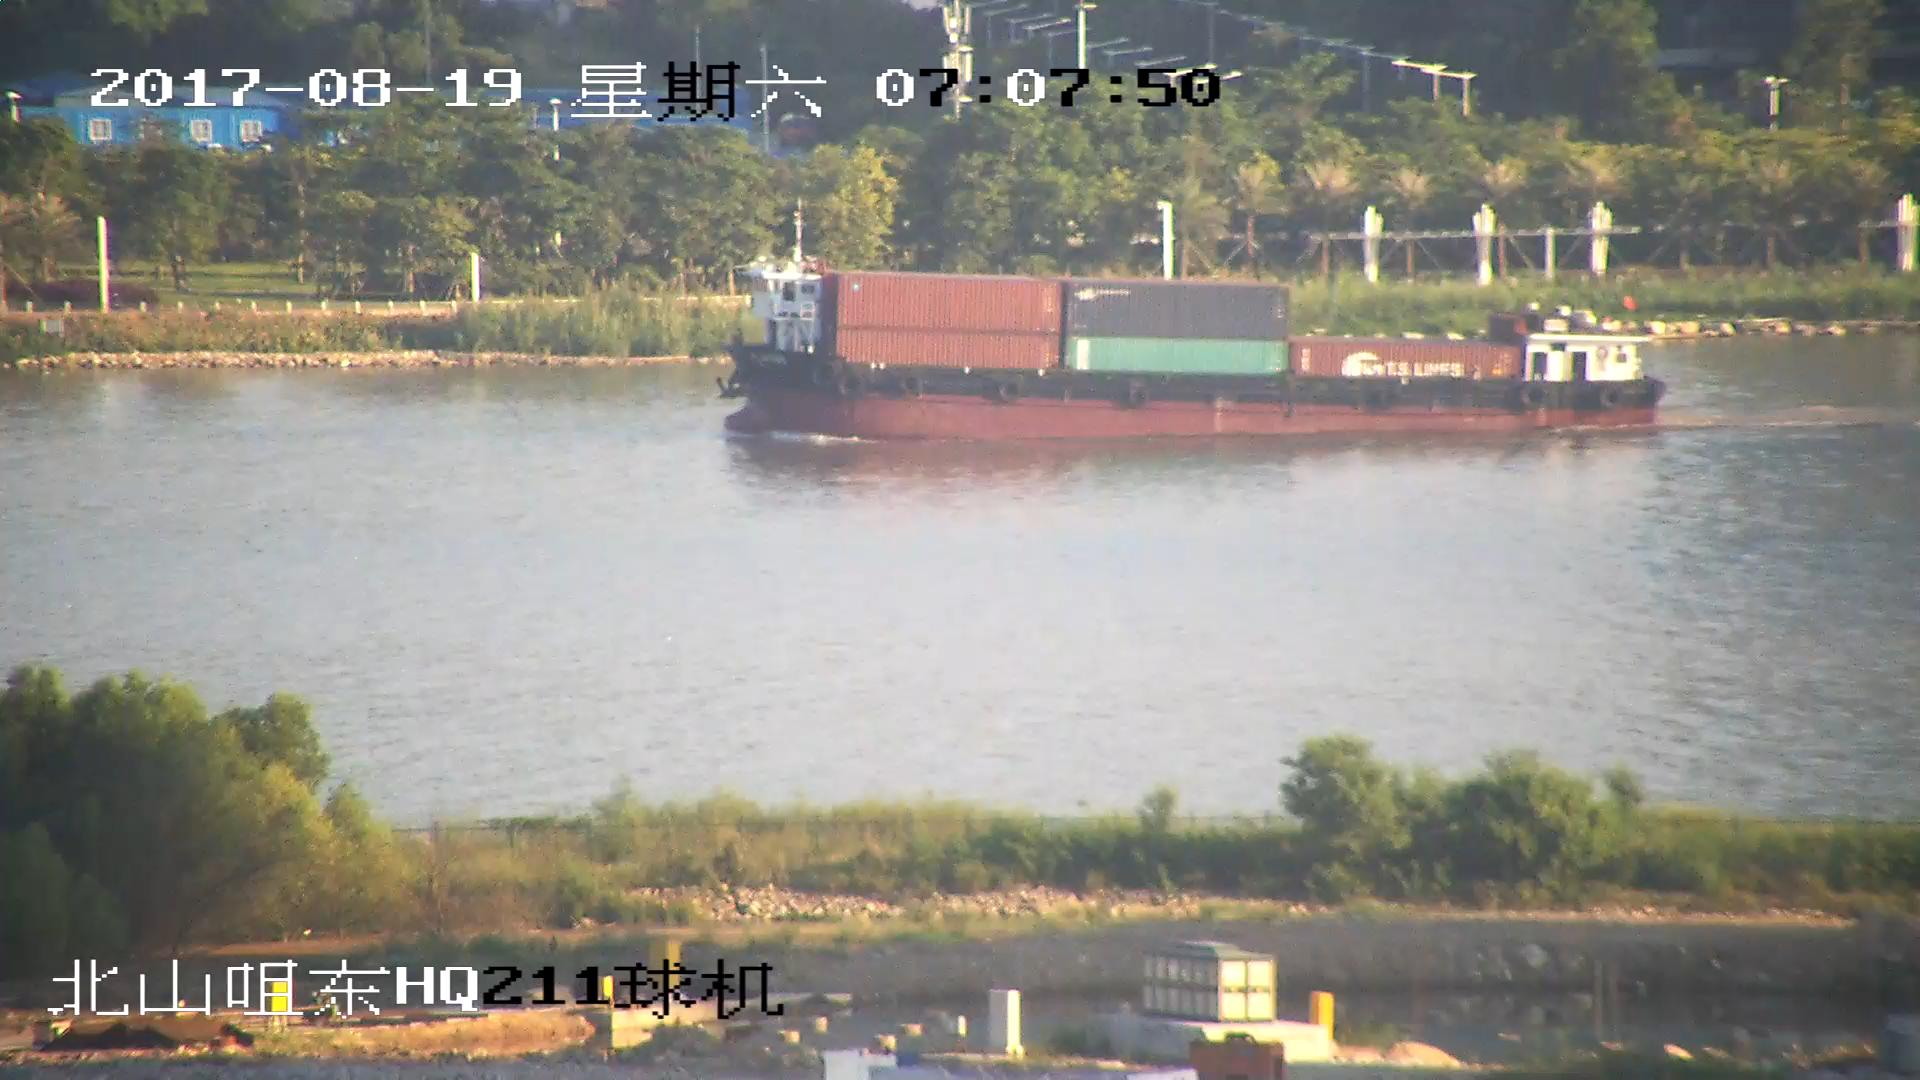container ship: (722, 246, 1663, 446)
